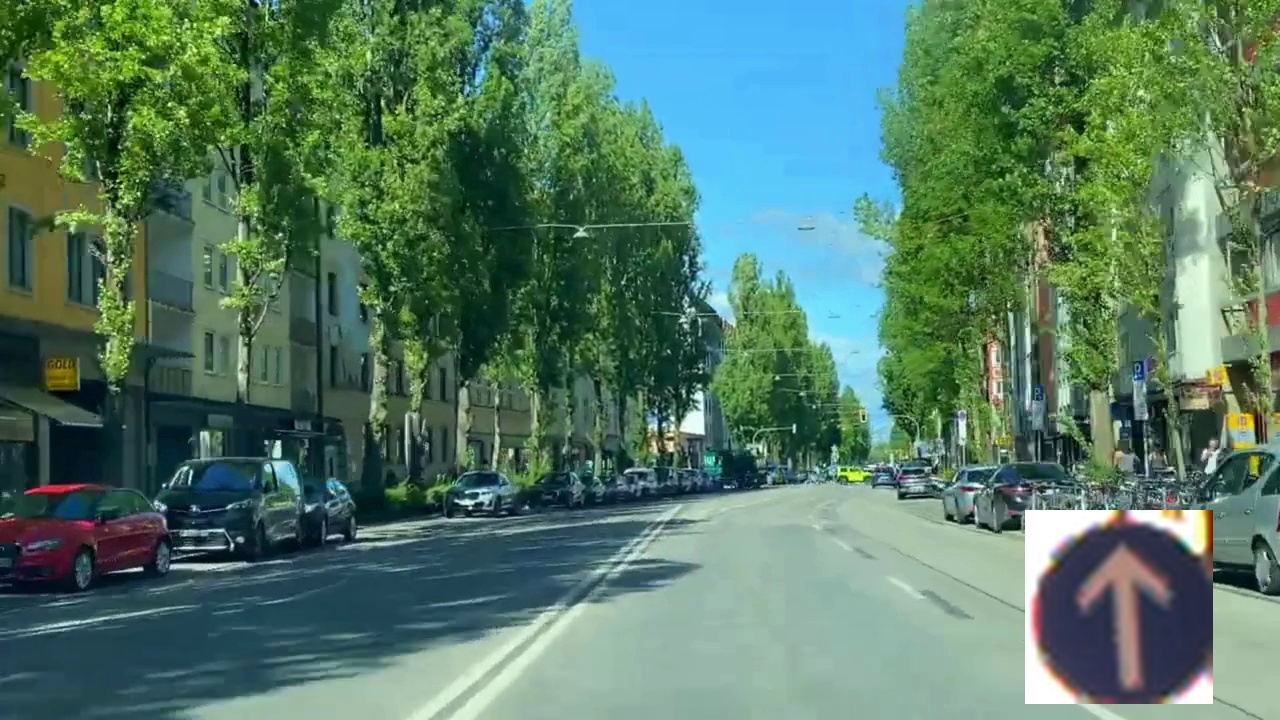Ahead only: (1025, 510, 1213, 704)
